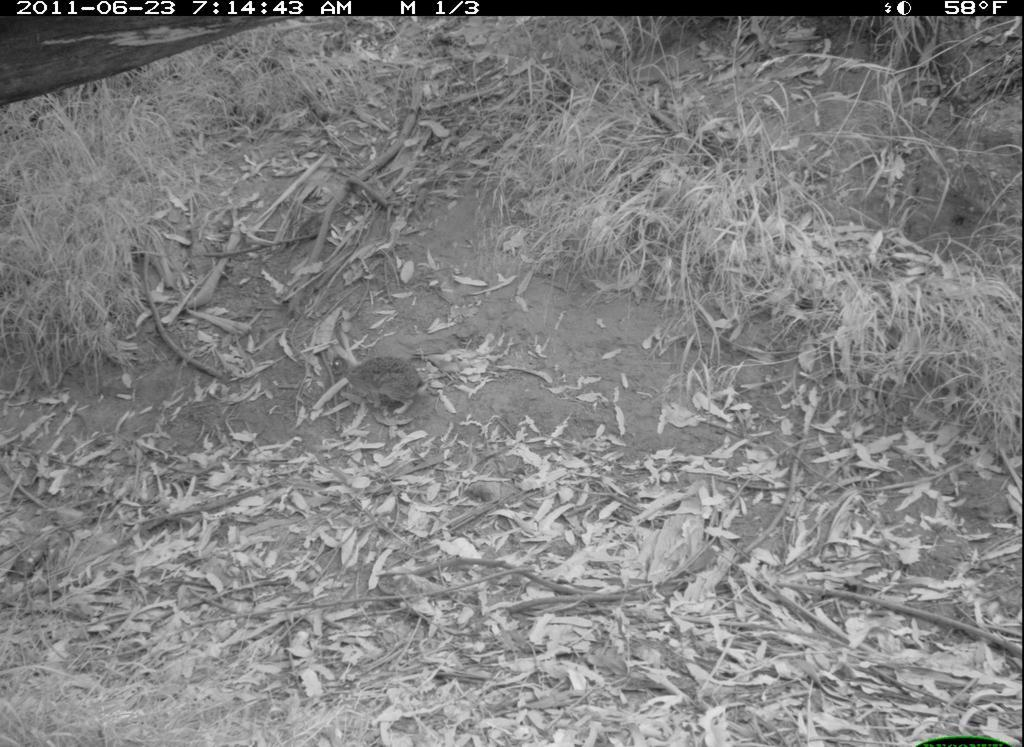rabbit: (323, 322, 431, 420)
